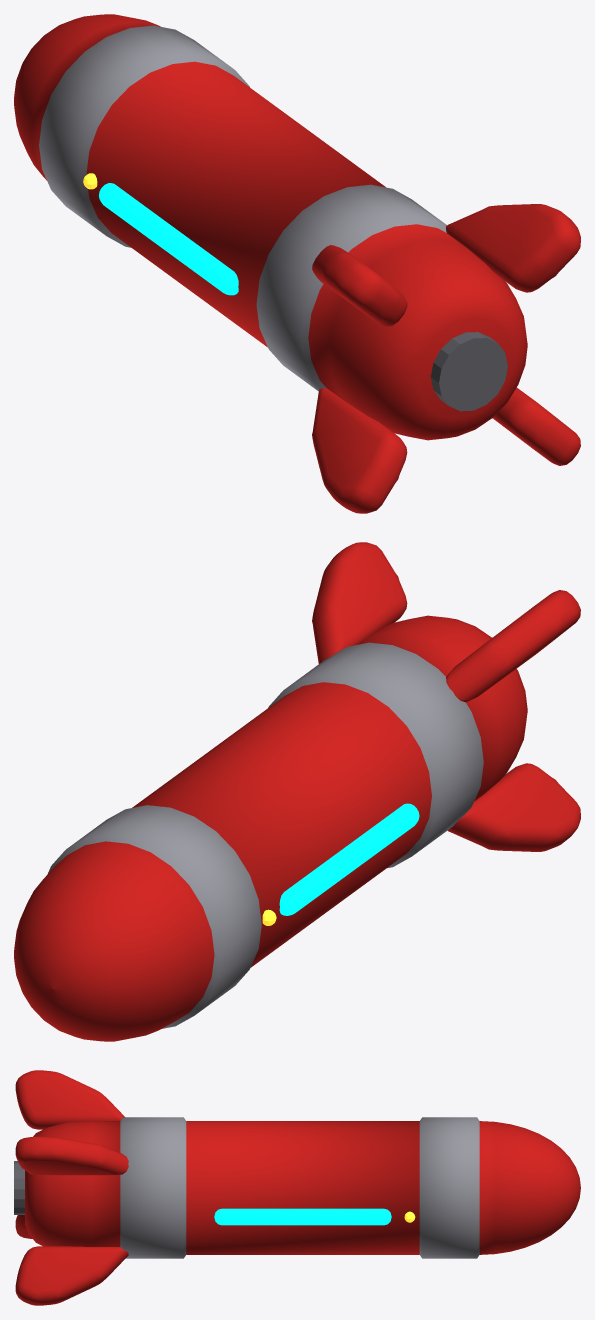
Rendered from brocken_rakete.glb.
3 renders of one model, top to bottom at view 1: azimuth 30°, elevation 25°; view 2: azimuth 150°, elevation 25°; view 3: azimuth 270°, elevation 25°, orthographic. The views are drawn at different scales.
Parts seen in each view (by area): view 1: Rakete, Flosse0, Flosse2, Duese, Streifen1, Flosse3, Flosse1; view 2: Rakete, Flosse2, Flosse0, Flosse3, Streifen1; view 3: Rakete, Flosse1, Flosse3, Flosse0, Streifen0, Duese.
Part boxes in pixels (left/top/right/bottom): Rakete: left=14, top=14, right=527, bottom=440; Flosse0: left=446, top=204, right=580, bottom=292; Flosse2: left=312, top=388, right=407, bottom=513; Duese: left=431, top=332, right=507, bottom=411; Streifen1: left=99, top=183, right=238, bottom=295; Flosse3: left=312, top=245, right=407, bottom=326; Flosse1: left=492, top=387, right=580, bottom=465; Rakete: left=14, top=615, right=527, bottom=1041; Flosse2: left=447, top=763, right=580, bottom=851; Flosse0: left=312, top=542, right=407, bottom=663; Flosse3: left=446, top=590, right=580, bottom=702; Streifen1: left=279, top=803, right=419, bottom=915; Rakete: left=25, top=1117, right=580, bottom=1258; Flosse1: left=15, top=1246, right=128, bottom=1305; Flosse3: left=15, top=1070, right=124, bottom=1129; Flosse0: left=15, top=1136, right=128, bottom=1175; Streifen0: left=214, top=1208, right=391, bottom=1225; Duese: left=14, top=1161, right=24, bottom=1214.
Size of the model in its own units: 0.3033 by 0.3033 by 0.928.
